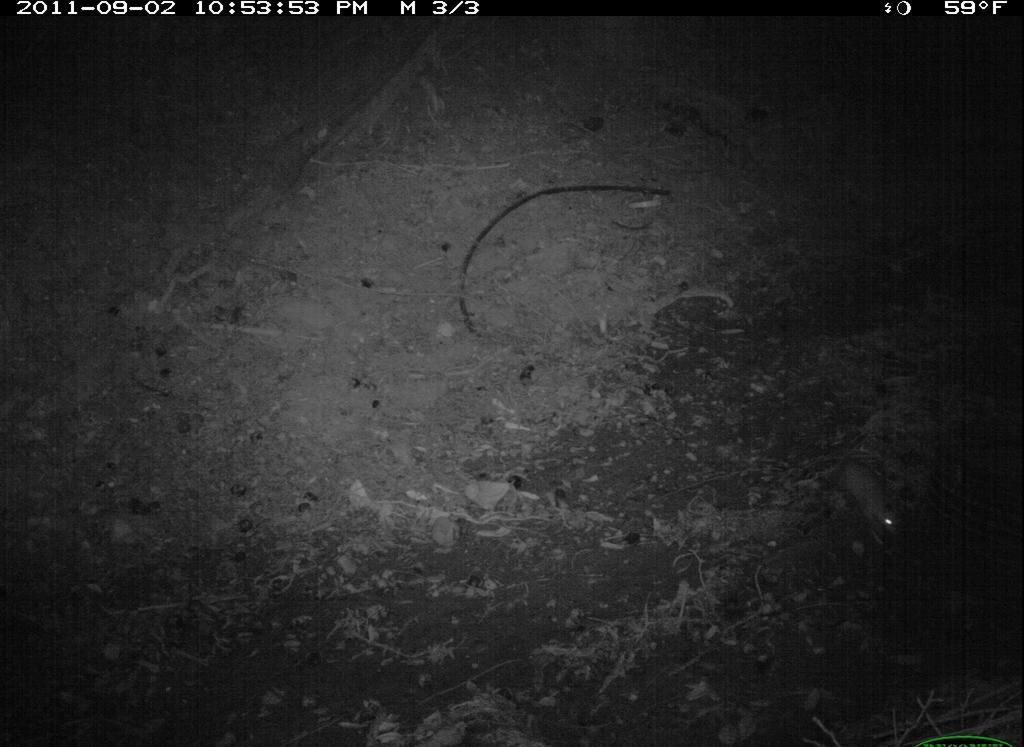opossum: (809, 441, 929, 562)
